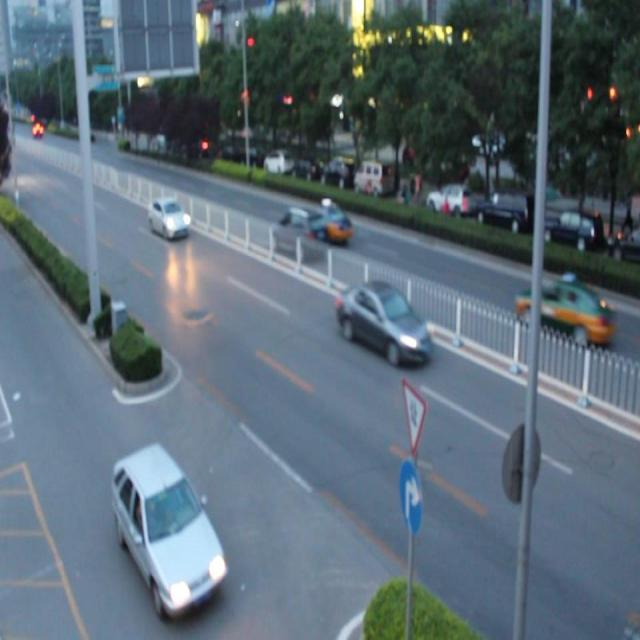car: (110, 441, 229, 613), (337, 280, 430, 362), (516, 275, 606, 348), (269, 204, 328, 258), (307, 202, 352, 244), (148, 198, 191, 237)
